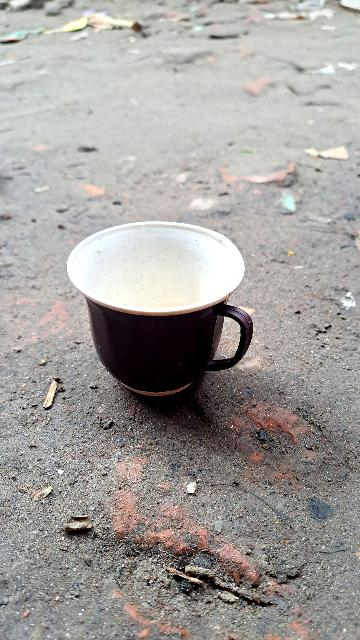hardplastic: (75, 219, 252, 402)
